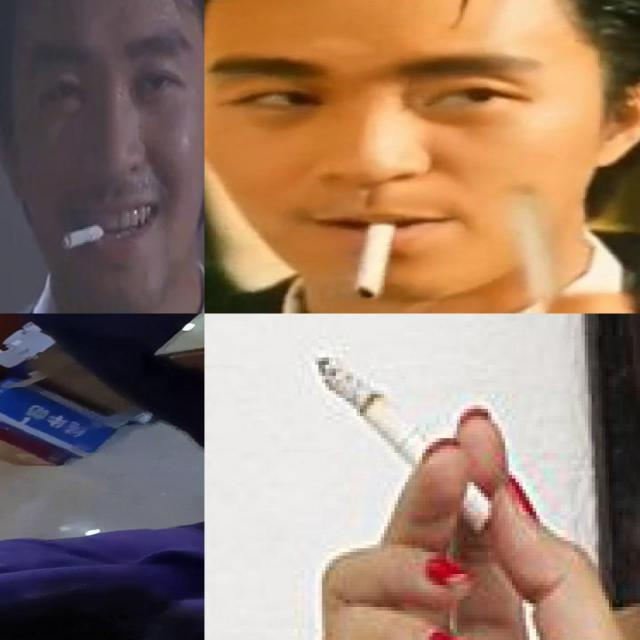cigarette: (314, 352, 494, 536), (348, 221, 394, 298), (61, 220, 111, 250)
